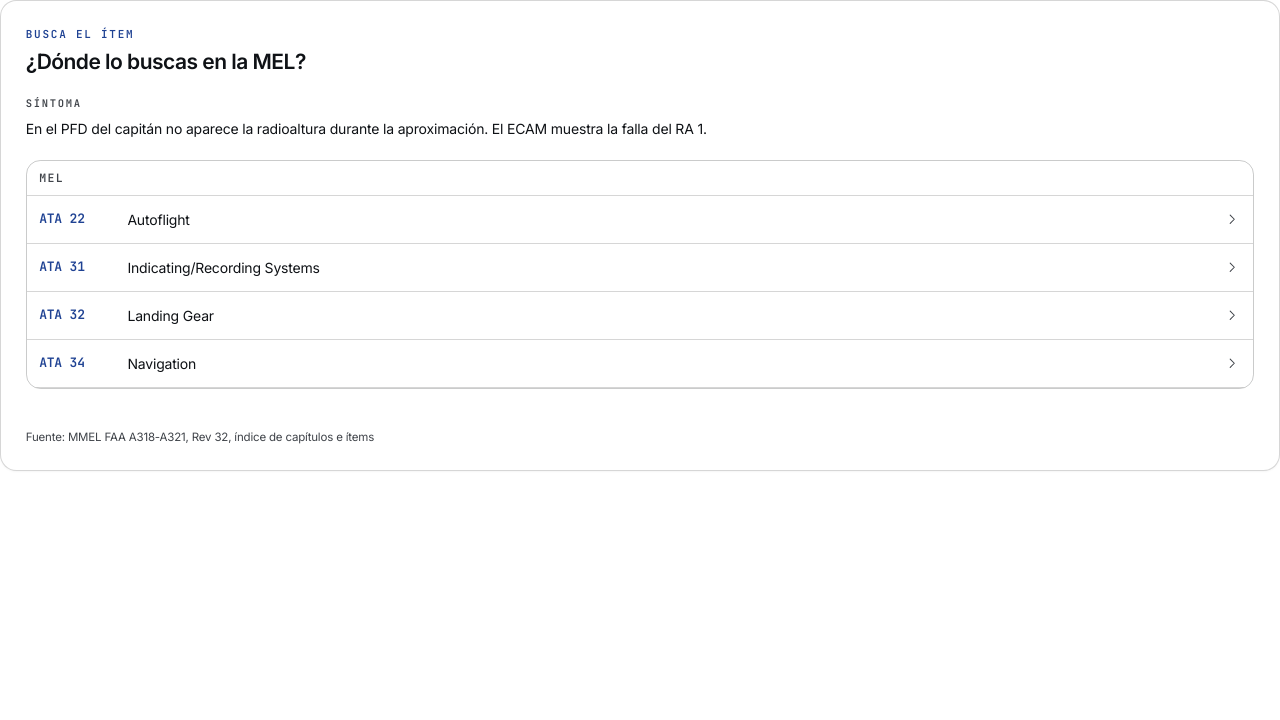
Scenario: BuscaElItem › capítulo equivocado: se avisa, se abre el bueno y se elige el ítem
Click the button "ATA 22 Autoflight".
click(62, 219)  # box top-left (27, 196), bottom-right (1253, 244)
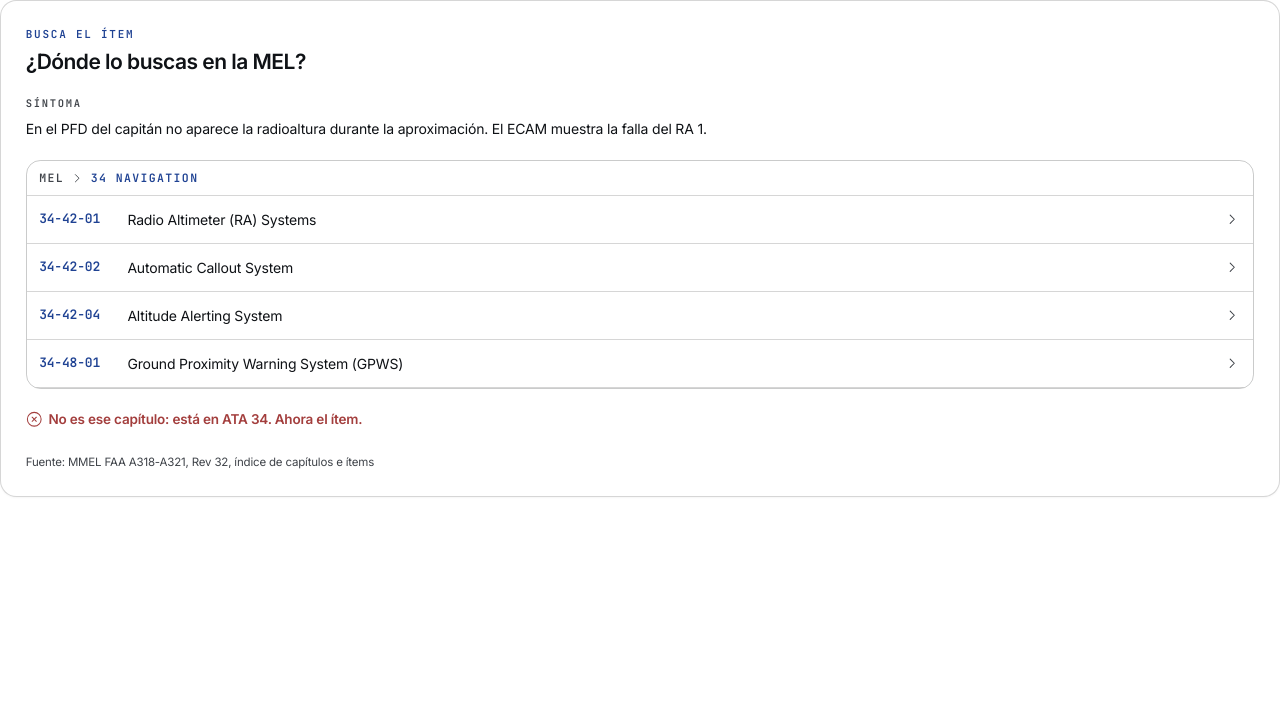
Click the button "34-42-01 Radio Altimeter (RA) Systems".
click(70, 219)  # box top-left (27, 196), bottom-right (1253, 244)
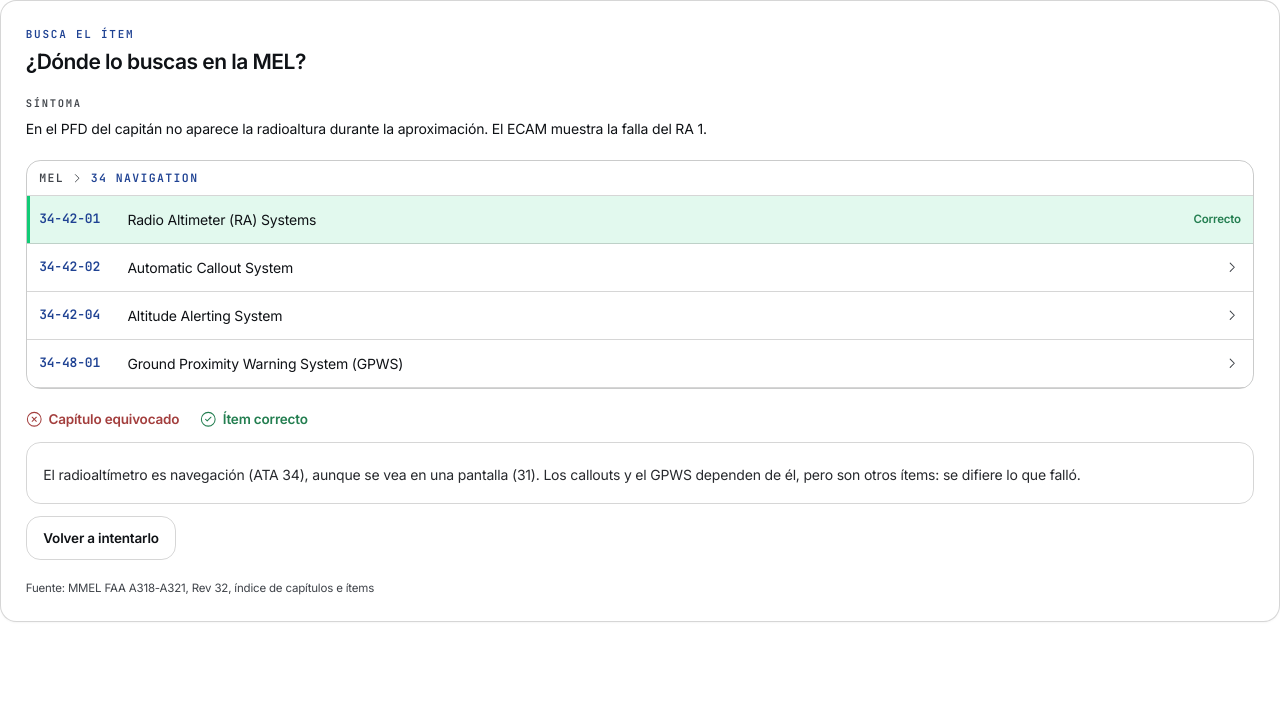
Result: the text "Ítem correcto" is shown at top-left (200, 409), bottom-right (308, 430)
